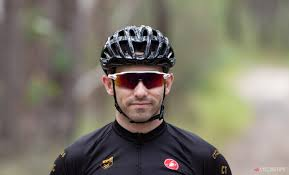helmet: (99, 27, 178, 70)
